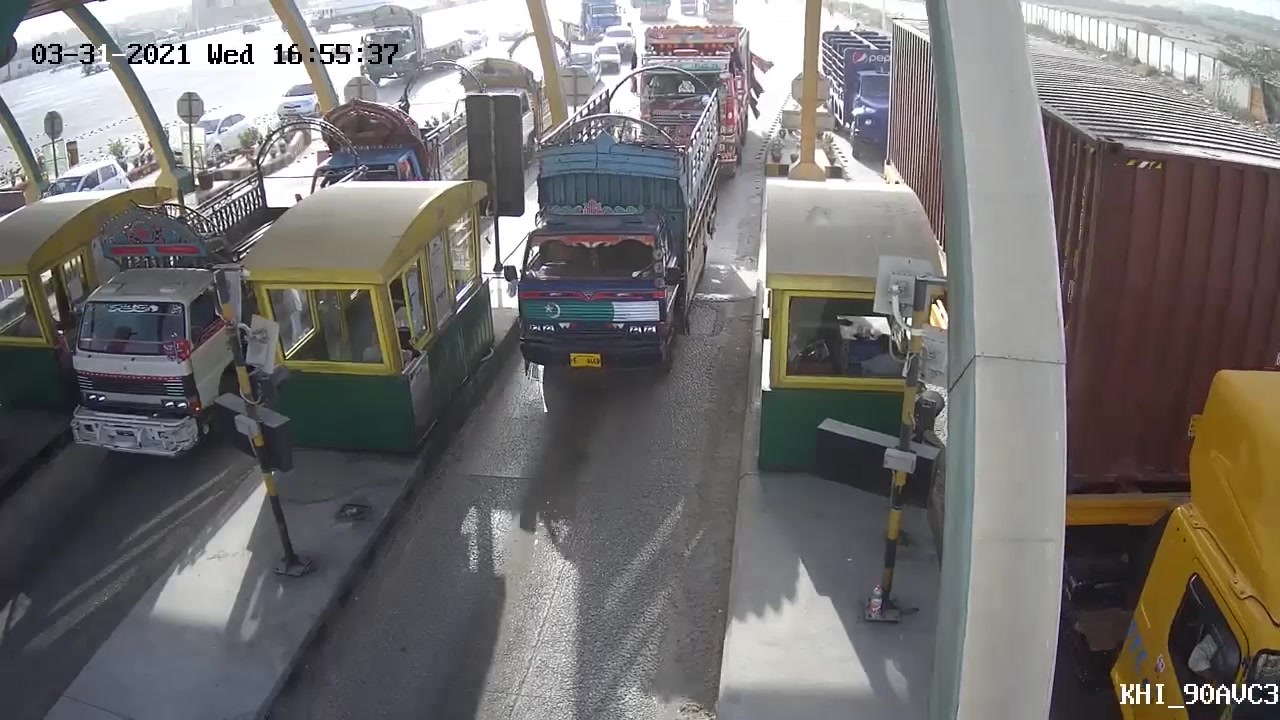F5: (504, 72, 727, 384)
